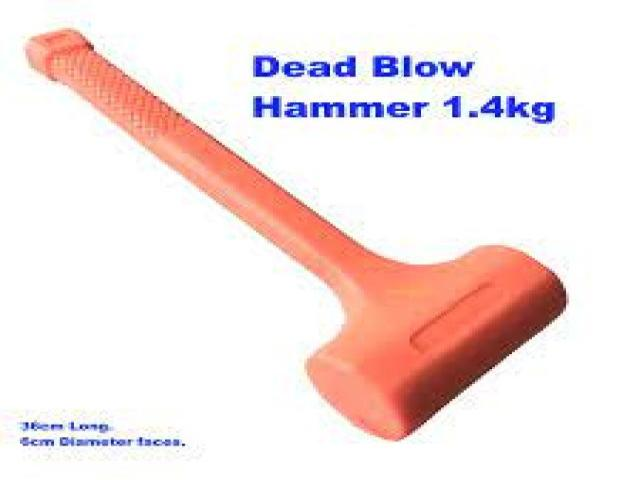hammer: (25, 29, 571, 442)
